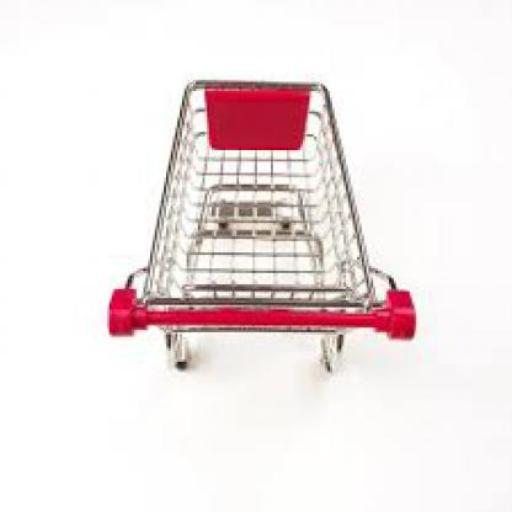shopping_cart: (105, 79, 419, 383)
